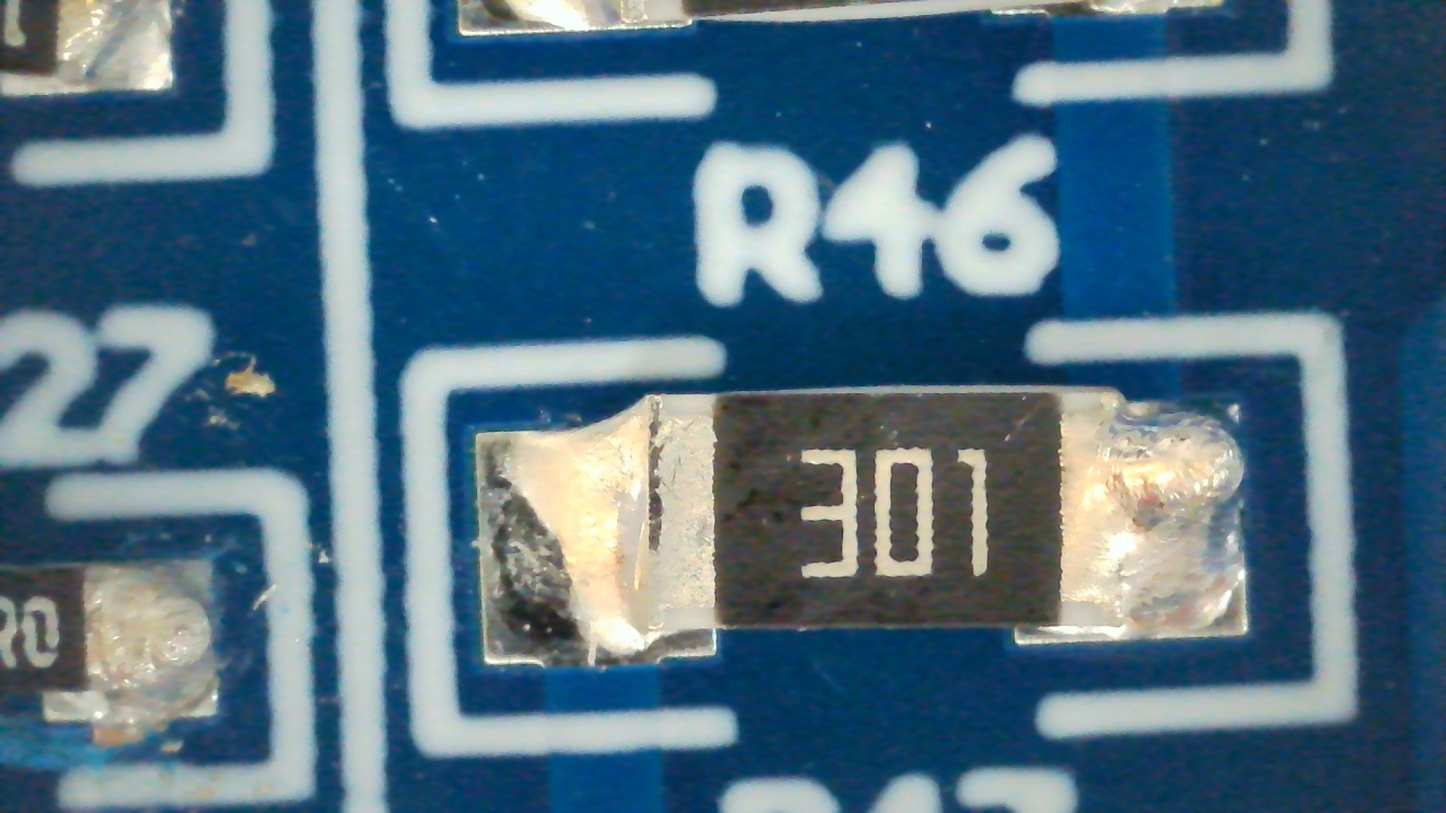NG: (476, 384, 1248, 670)
